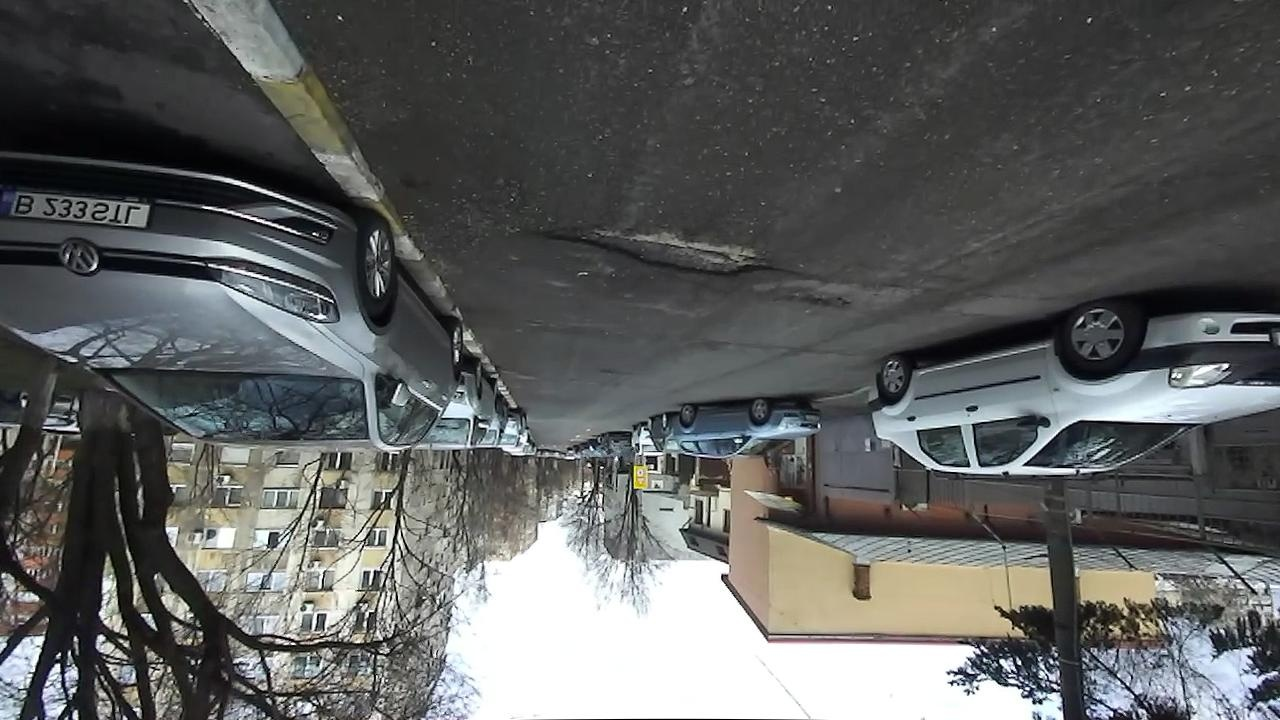pothole: (539, 222, 819, 283), (776, 291, 858, 317)
